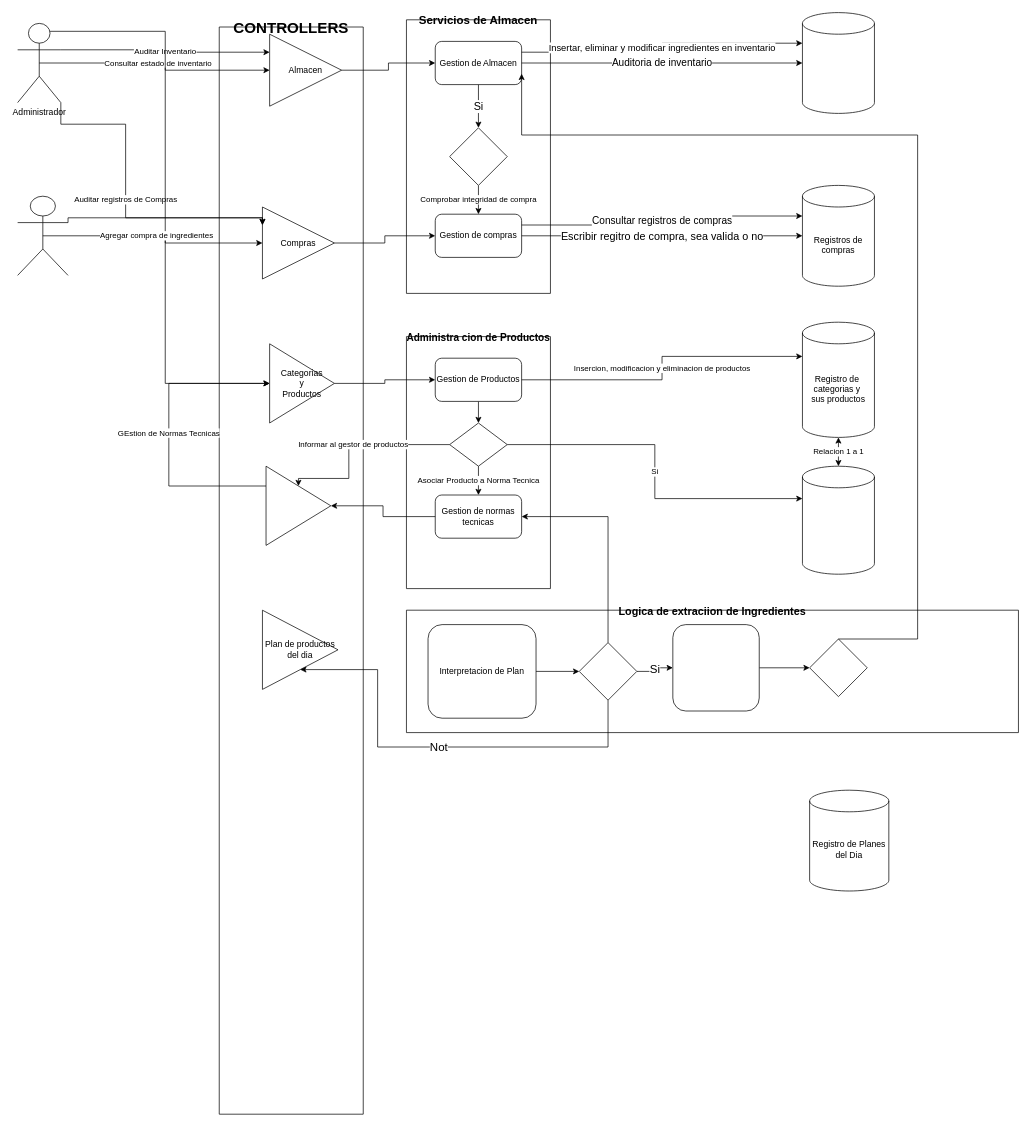
This 1031x1133 diagram has some shape labels left out. The centre of each missing label's shape, as x and y in pixels:
"Comprador" belongs at (42,235).
"Existe el producto?" belongs at (478,444).
"INVENTARIO" belongs at (838,62).
"La compra es valida?" belongs at (478,156).
"Normas tecnicas" belongs at (298,505).
"Refistro de Cartas de Normas Tecnicas" belongs at (838,519).
"Traduccion de Platos a Ingredientes" belongs at (715,667).
"Verificar Cartas de normas Tecnicas" belongs at (608,671).
"Verificar Si existen los ingredientes suficientes" belongs at (838,667).
